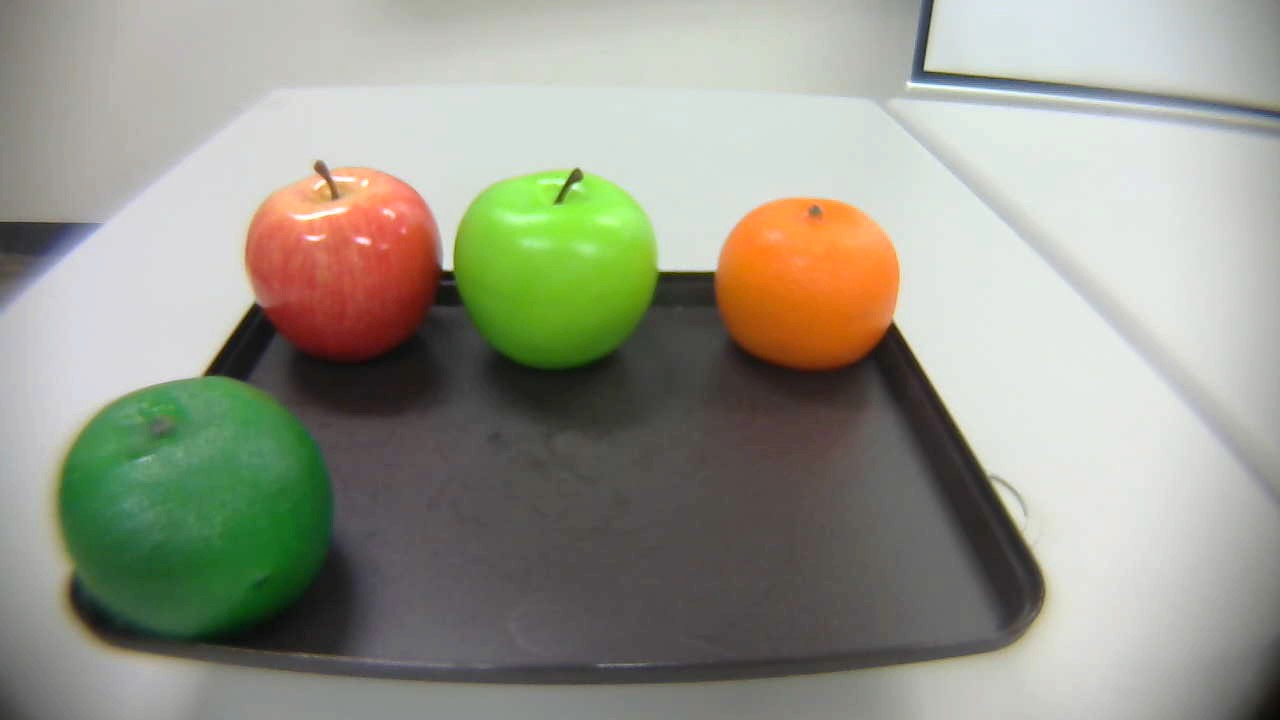green apple: (443, 163, 667, 375)
green orange: (53, 368, 346, 643)
orange: (705, 187, 904, 385)
red apple: (243, 159, 447, 363)
